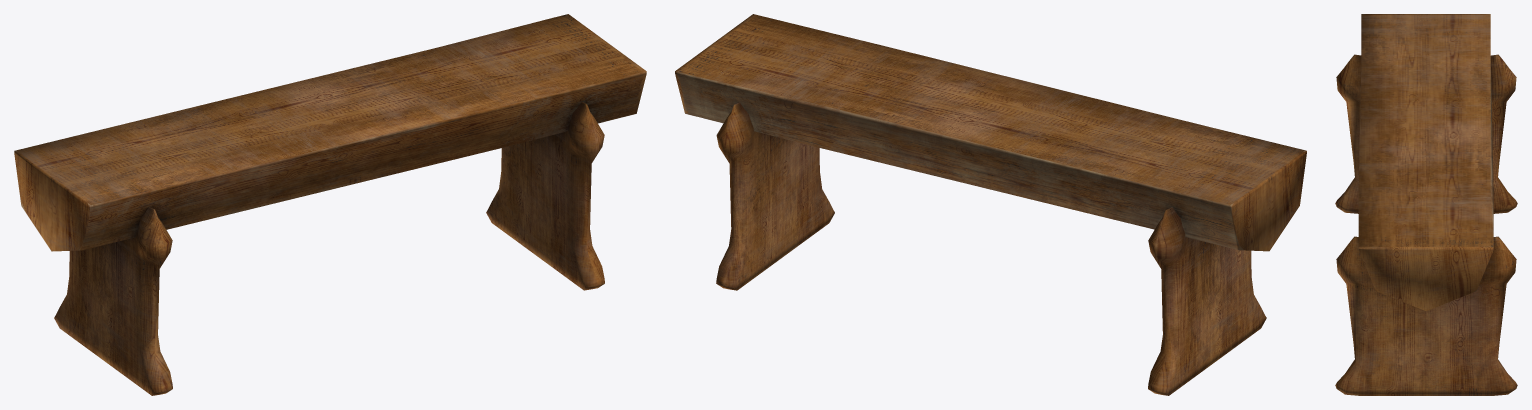
File: wooden_log_bench.fbx
3 views of the same model, side by side, from view 1: azimuth 30°, elevation 25°; view 2: azimuth 150°, elevation 25°; view 3: azimuth 270°, elevation 25° (orthographic). The views are drawn at different scales.
Visible parts, largest first — view 1: wood_log_bench; view 2: wood_log_bench; view 3: wood_log_bench.
Boxes of the visible parts, x1,y1,x2,y2 form: wood_log_bench: (14,14,646,395); wood_log_bench: (675,14,1306,395); wood_log_bench: (1335,14,1517,395).
Size of the model in its own units: 300 by 102 by 98.84.
1 material, 1 textured.
